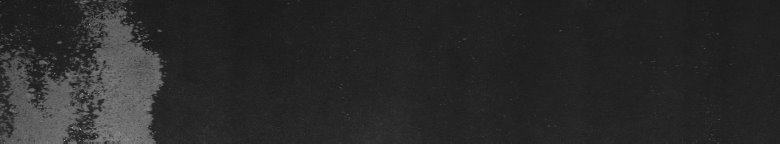kb: (4, 5, 140, 136)
